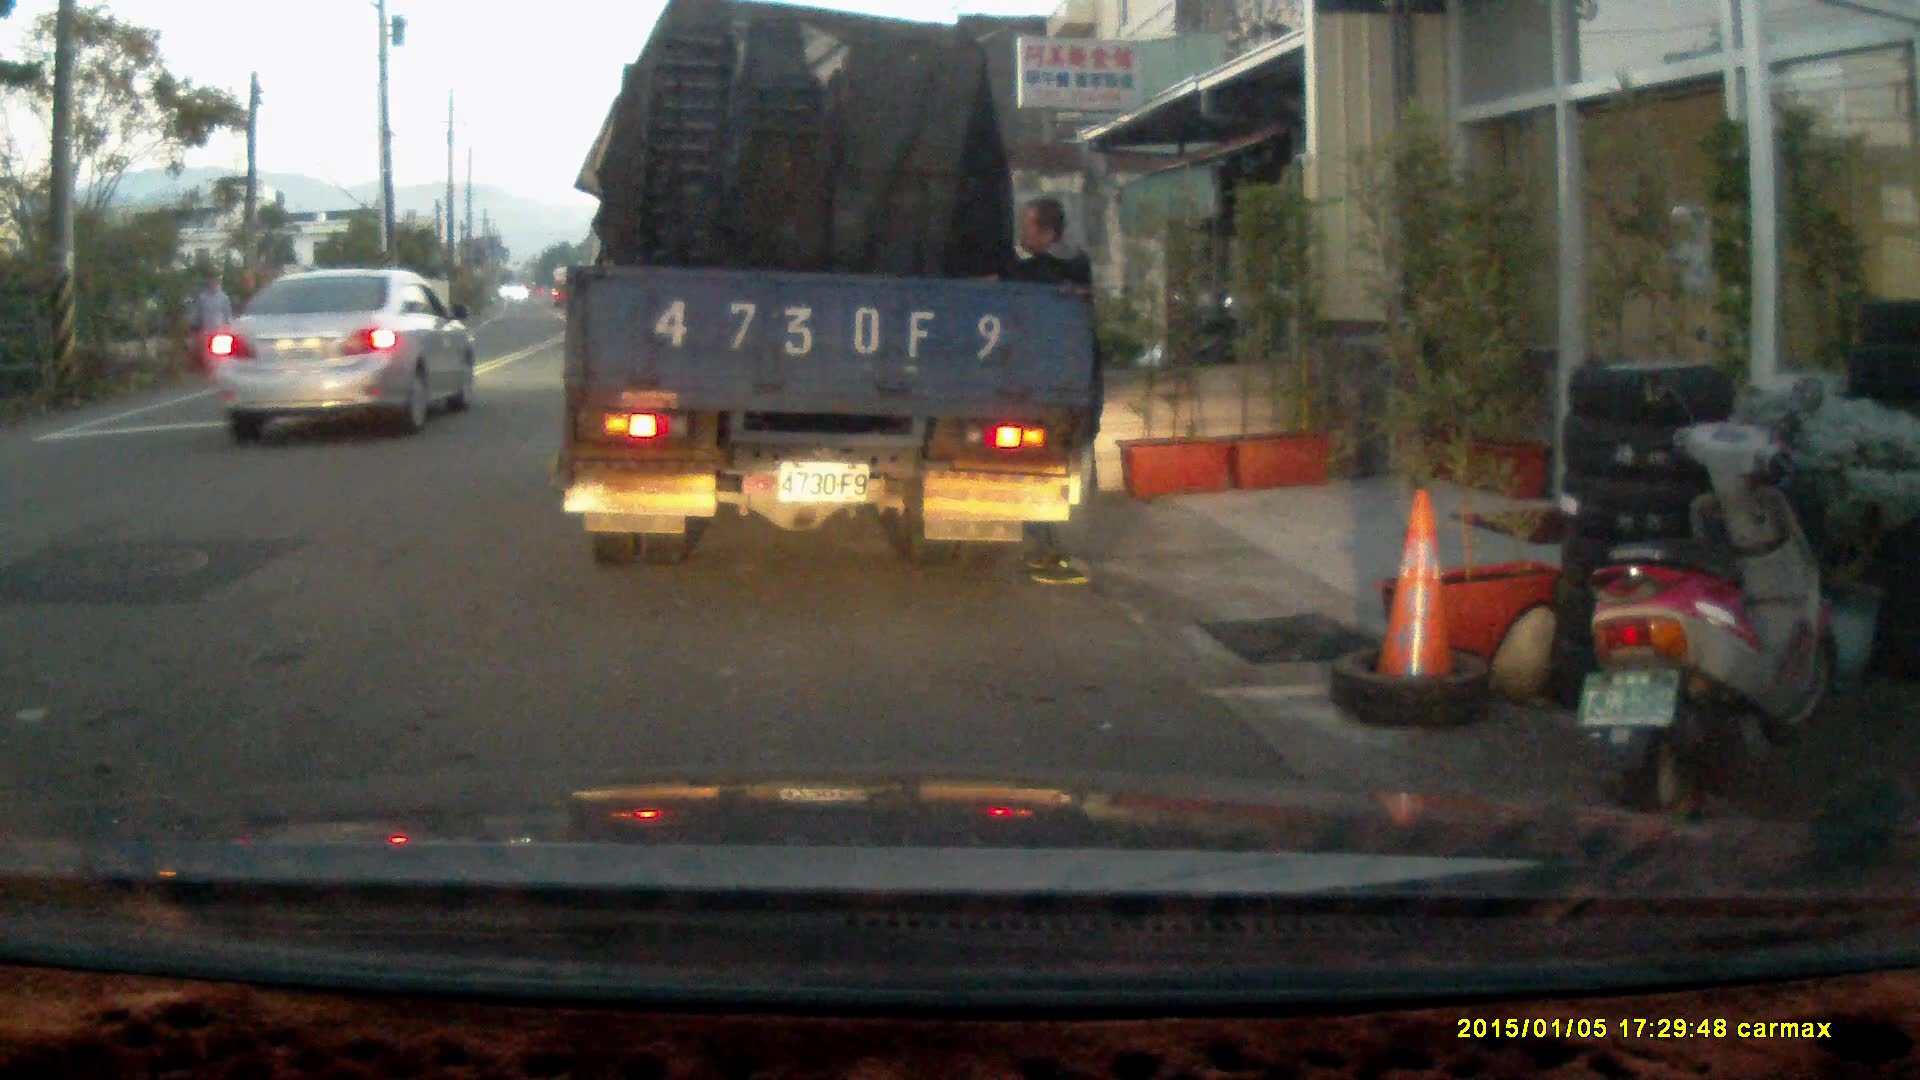pedestrian: (960, 195, 1101, 587), (193, 272, 236, 386)
vehicle: (565, 23, 1097, 572), (209, 267, 480, 444)
